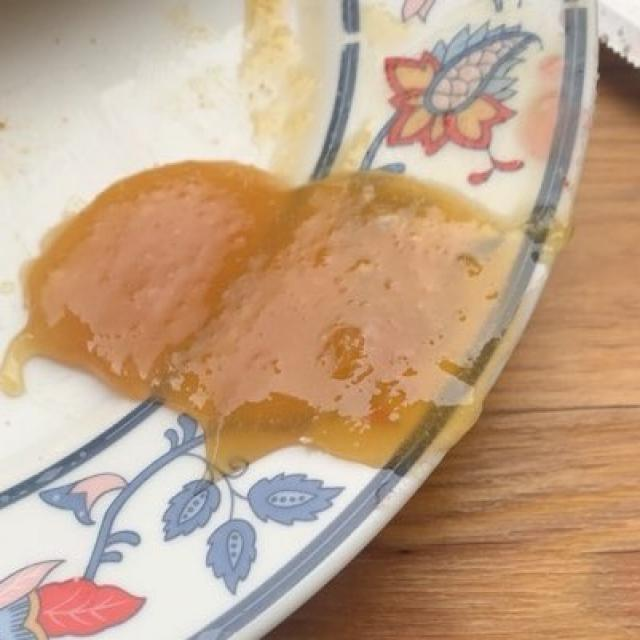jam: (18, 169, 512, 463)
